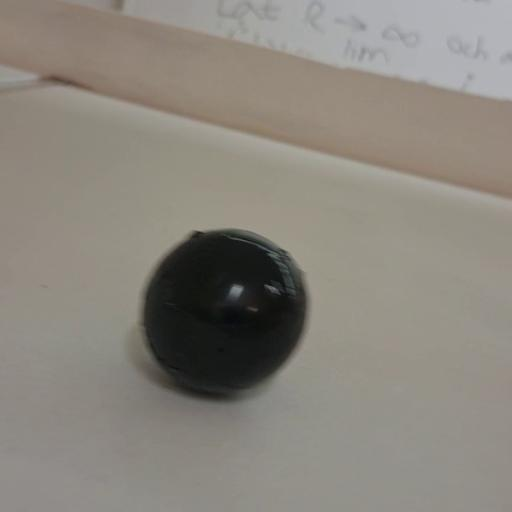dead: (140, 228, 308, 397)
